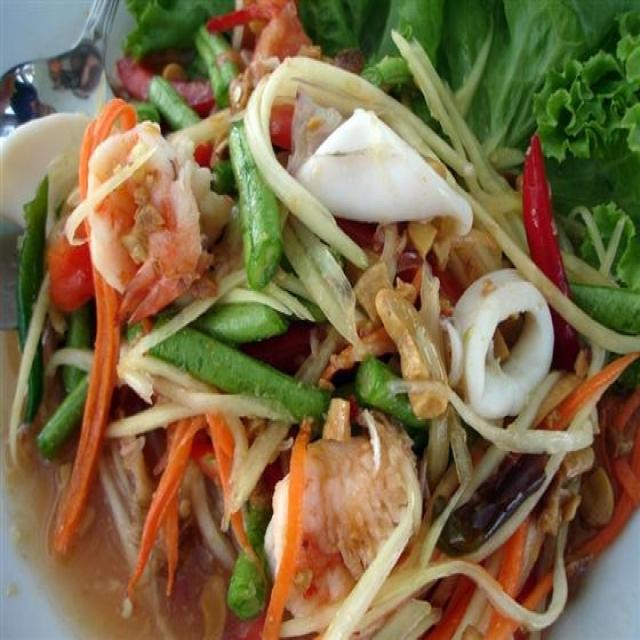蔬菜料理: (30, 45, 603, 630)
